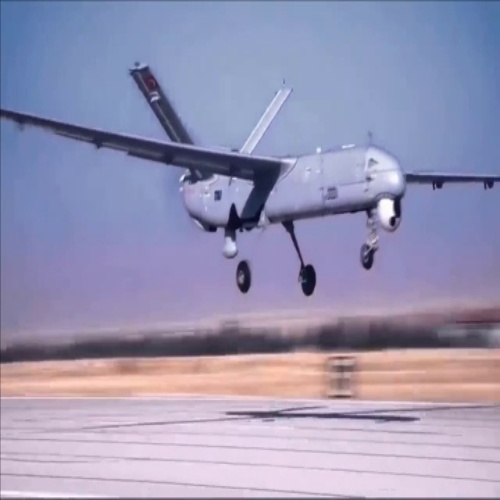uav: (1, 63, 500, 300)
